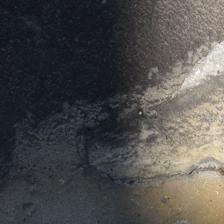Crack: (16, 65, 109, 157), (18, 77, 69, 107)
